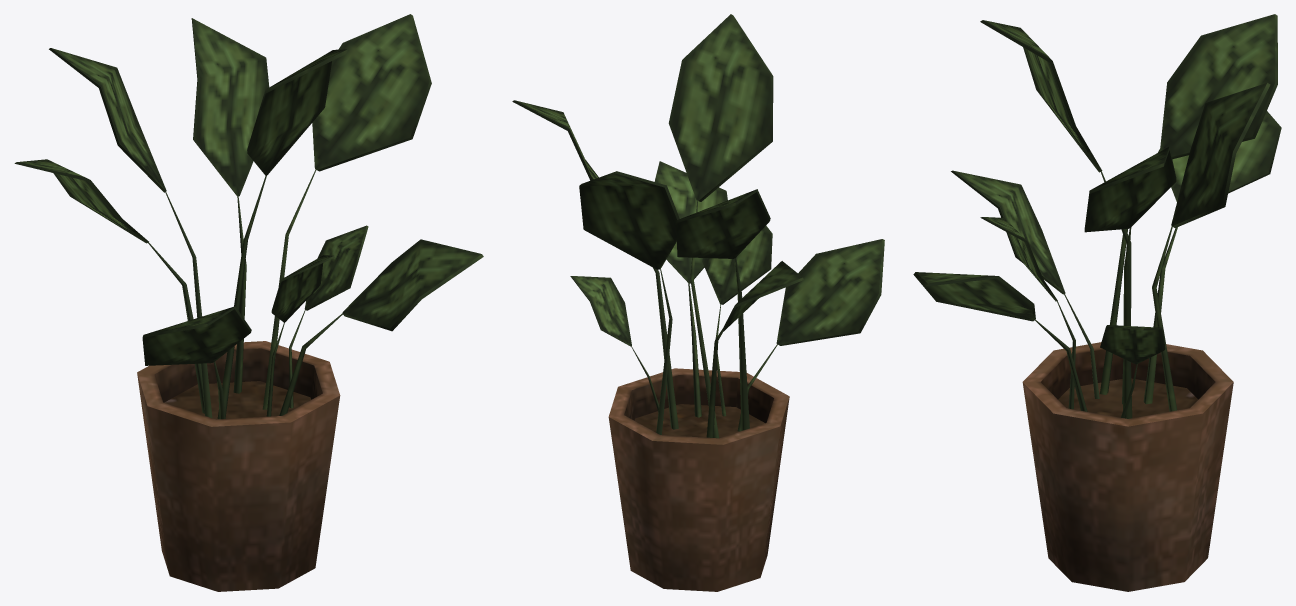
The model's file is plant_01.fbx.
3 renders of one model, left to right at view 1: azimuth 30°, elevation 25°; view 2: azimuth 150°, elevation 25°; view 3: azimuth 270°, elevation 25°, orthographic. The views are drawn at different scales.
Visible parts, largest first — view 1: plant_01; view 2: plant_01; view 3: plant_01.
Part boxes in pixels (x1,y1,x2,y2): plant_01: [14, 14, 483, 591]; plant_01: [512, 14, 884, 591]; plant_01: [913, 14, 1281, 591].
Bounding box in the file's own units: 60.83 × 88.68 × 53.24.
Materials: 1 (1 with a texture image).
